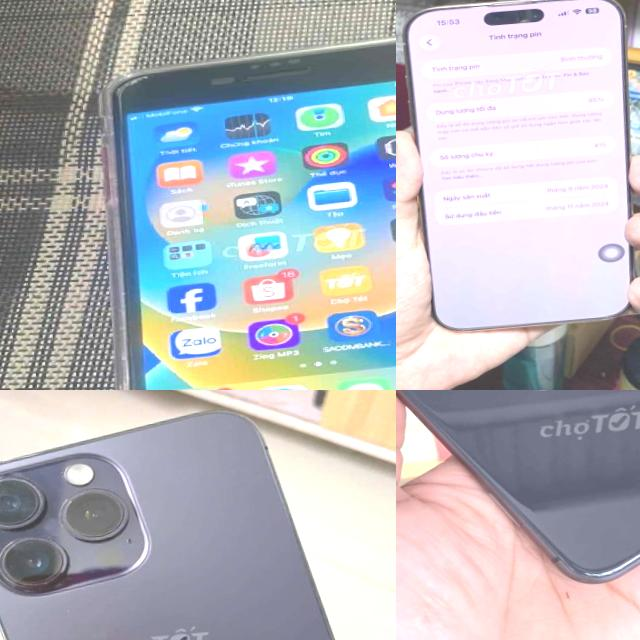gen_11: (396, 390, 640, 611)
gen_14: (0, 392, 396, 640)
gen_16: (403, 0, 632, 330)
gen_7_8: (100, 37, 396, 390)
